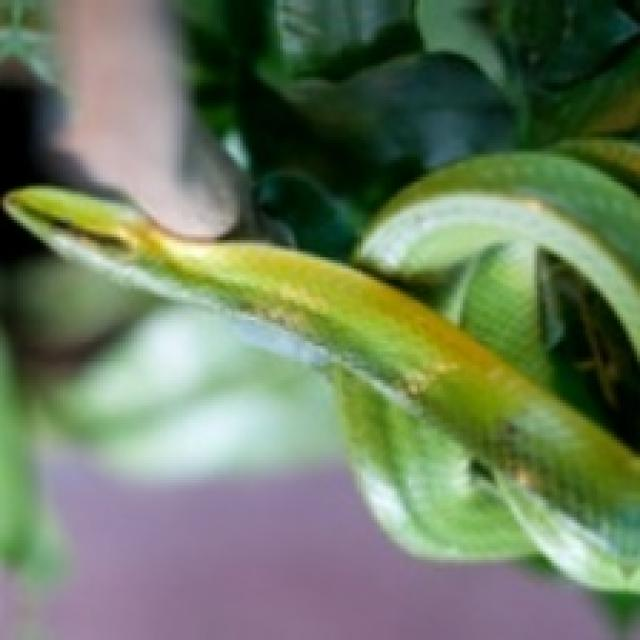red-tailed green ratsnake: (5, 140, 640, 593), (6, 186, 637, 591), (483, 200, 637, 366)
